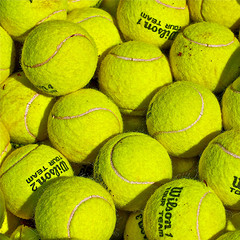tennis ball: (91, 131, 174, 212), (19, 20, 98, 96), (47, 87, 124, 163), (147, 80, 222, 157), (97, 40, 172, 116), (1, 143, 75, 219), (33, 175, 117, 240), (169, 21, 240, 93), (141, 179, 226, 239), (1, 72, 52, 142), (197, 129, 240, 209), (115, 1, 191, 46), (67, 8, 121, 57), (1, 1, 68, 39)
